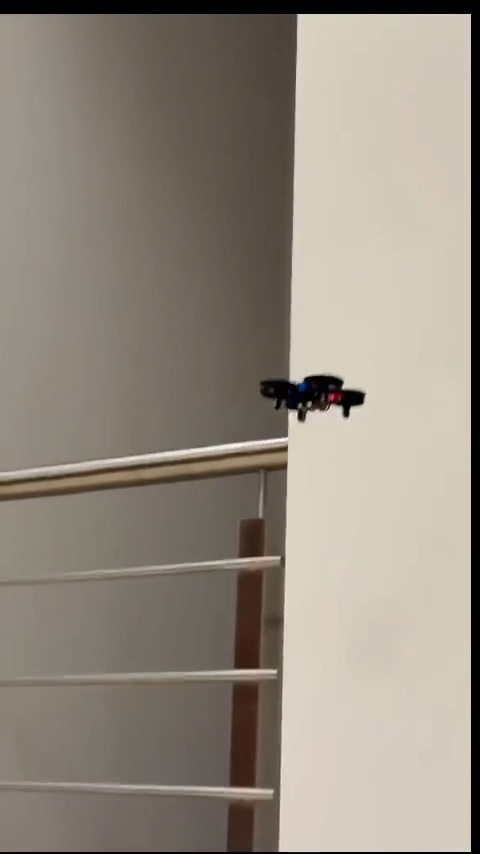drone: (258, 375, 367, 426)
